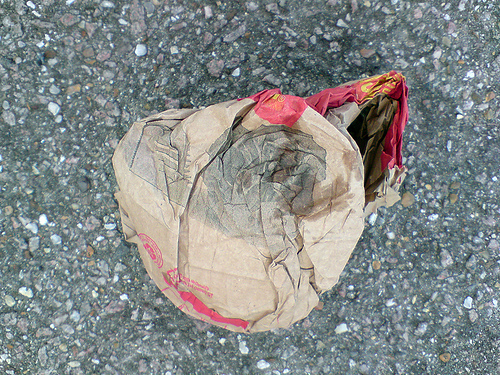litter: (113, 70, 407, 333)
